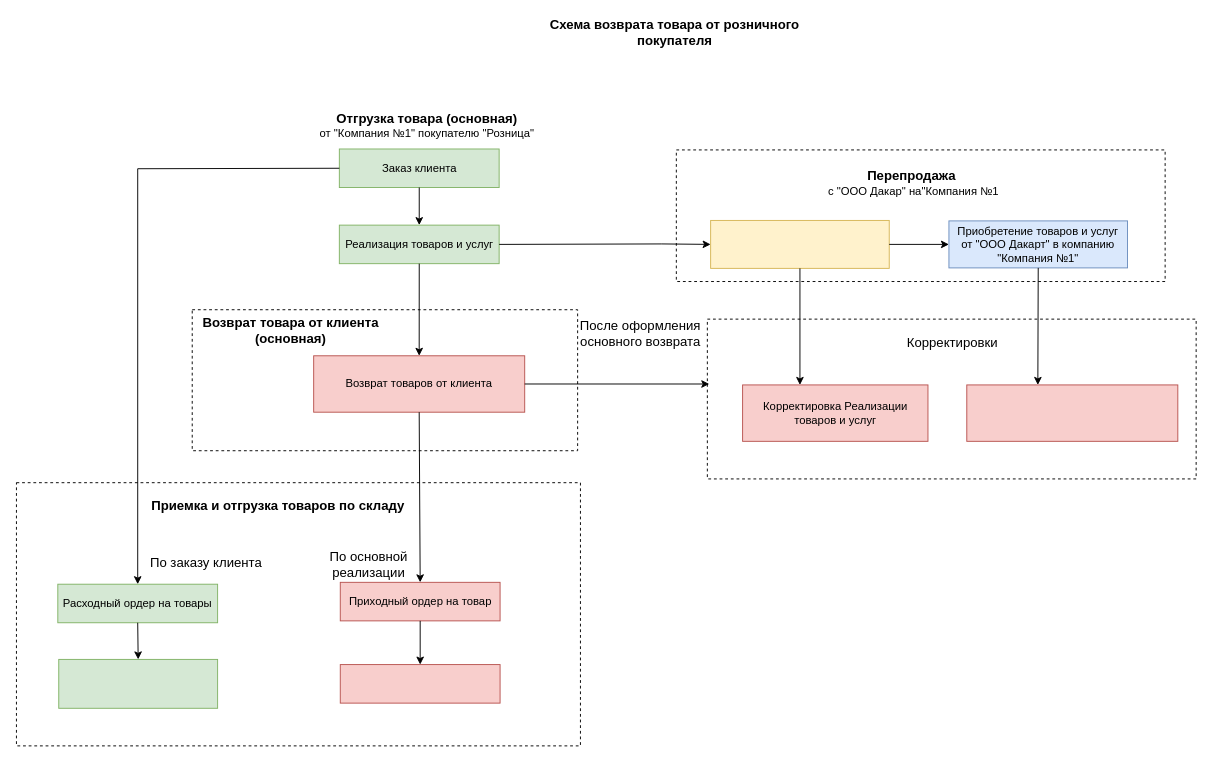
The diagram is 1213 pixels wide and 762 high, and some of its shapes have lost their labels. Each missing label, with the centre of its shape:
Корректировка Приобретения товаров и услуг: (1072,412)
Отбор (размещение) товаров: (138,683)
Отбор (рахмещение) товаров: (419,683)
Реализация товаров и услуг от "ООО Дакар" клиенту "Физическое Лицо №1": (799,243)
